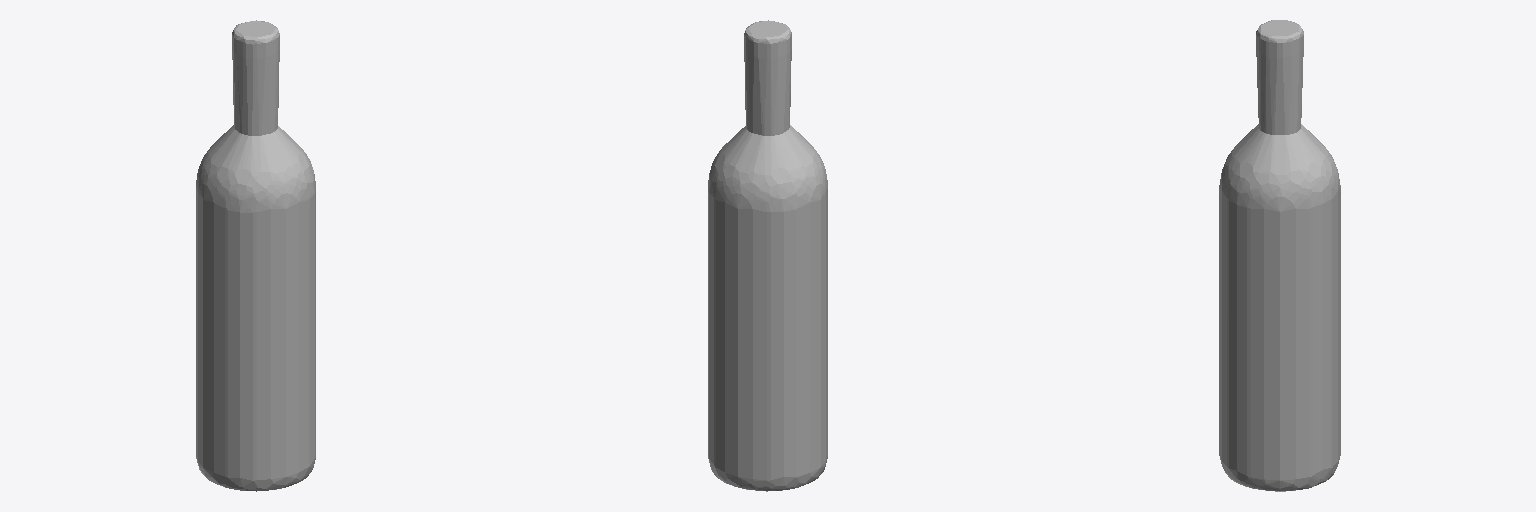
URDF robot description (root):
<?xml version="1.0"?>
<robot name="root">
  <link name="base_link">
    <visual>
      <origin xyz="0 0 0" rpy="0 0 0" />
      <geometry>
        <mesh filename="../meshes/unidex_sem_Bottle-114509277e76e413c8724d5673a063a6_006.obj" scale="1.0000E+00 1.0000E+00 1.0000E+00" />
      </geometry>
      <material name="">
        <color rgba="7.50E-01 7.50E-01 7.50E-01 1" />
      </material>
    </visual>
    <collision>
      <origin xyz="0 0 0" rpy="0 0 0" />
      <geometry>
        <mesh filename="../meshes/unidex_sem_Bottle-114509277e76e413c8724d5673a063a6_006.obj" scale="1.0000E+00 1.0000E+00 1.0000E+00" />
      </geometry>
    </collision>
  </link>
</robot>

--- Render facts (derived) ---
3 views of the same robot in one strip: view 1: azimuth 30°, elevation 25°; view 2: azimuth 150°, elevation 25°; view 3: azimuth 270°, elevation 25° (orthographic).
Model root with 1 links and 0 joints (none), rooted at base_link, posed every joint at zero.
Links seen in each view (by area): view 1: base_link; view 2: base_link; view 3: base_link.
Link boxes in pixels (bbox=[...]): base_link: bbox=[196, 20, 315, 491]; base_link: bbox=[708, 20, 827, 491]; base_link: bbox=[1219, 20, 1340, 491].
Size in the robot's own frame: 0.0287 by 0.0287 by 0.1148 metres.
1 mesh visuals loaded from 1 distinct referenced files (1 OBJ).
